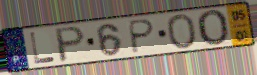6: (95, 22, 123, 58)
L: (28, 31, 57, 66)
O: (196, 9, 231, 48), (165, 12, 198, 50)
P: (54, 25, 87, 65), (128, 18, 157, 56)
